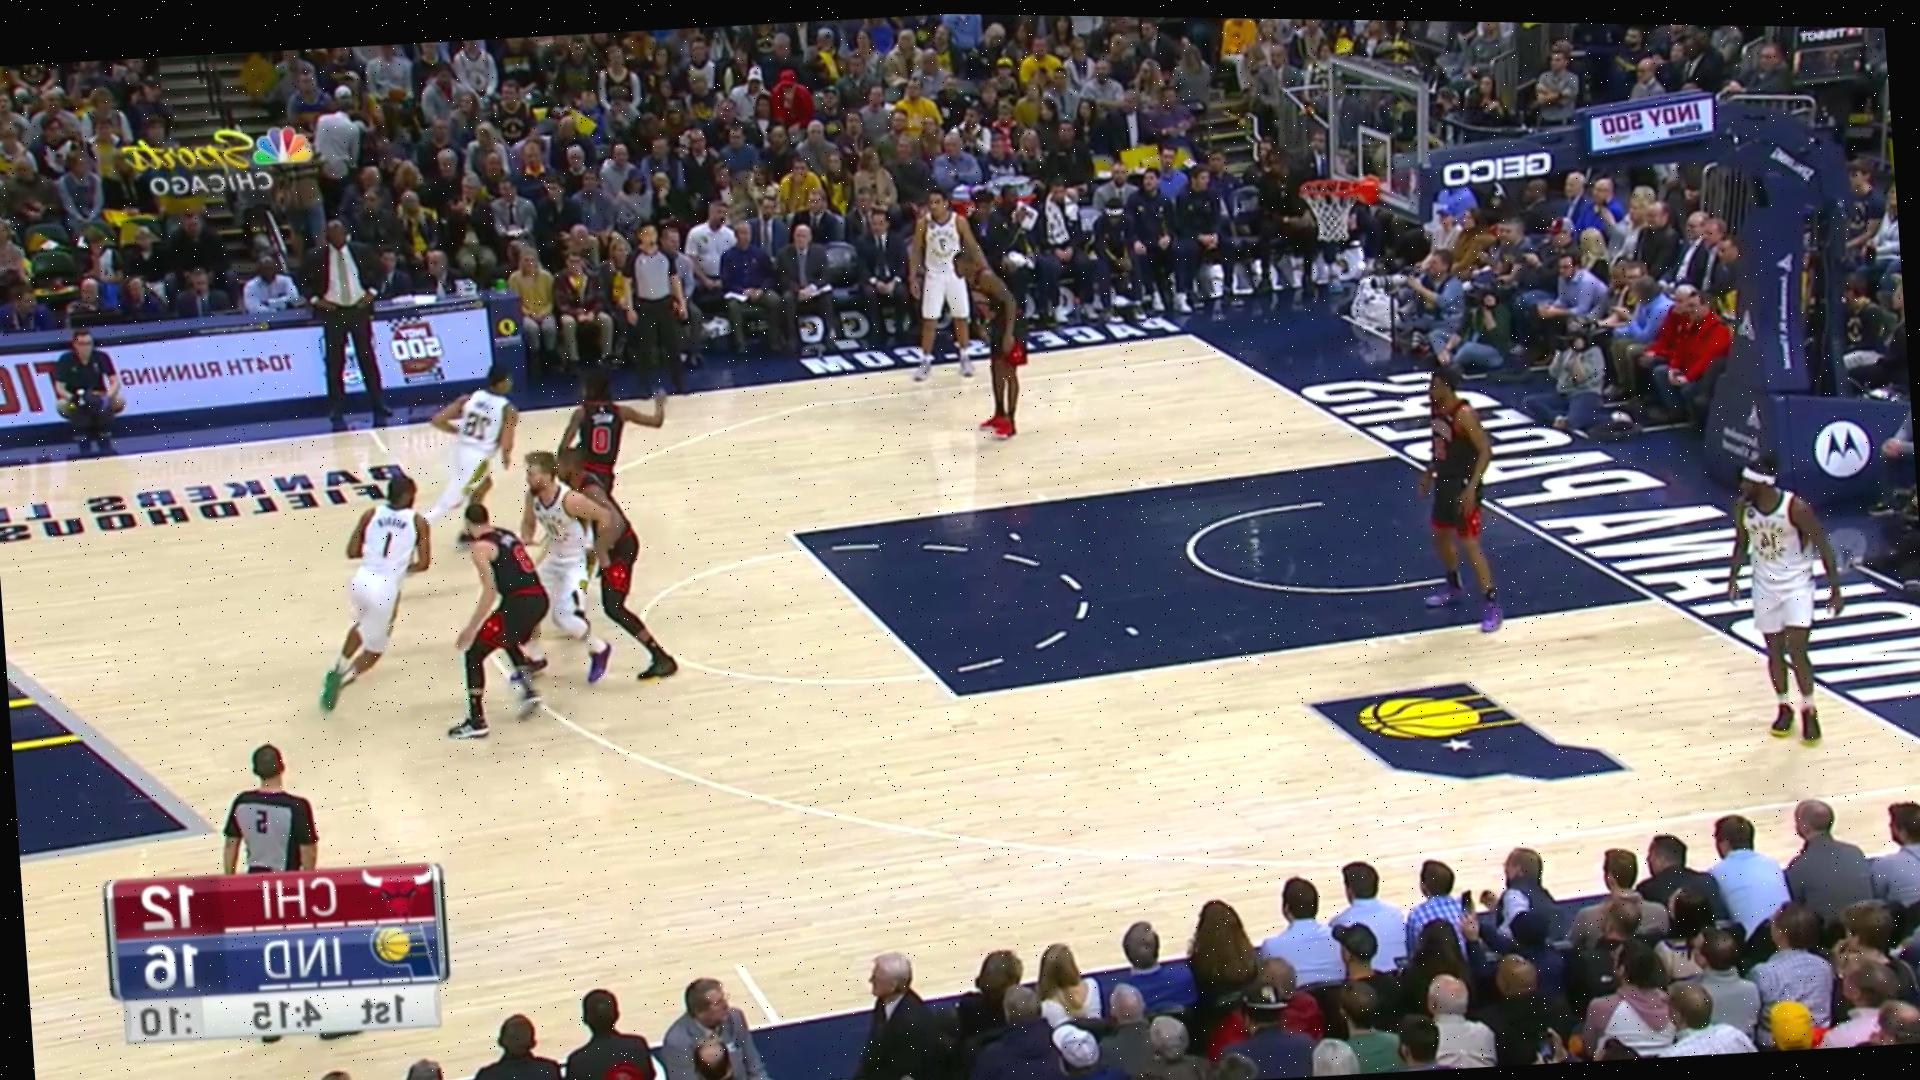no_foul: (524, 433, 634, 687)
